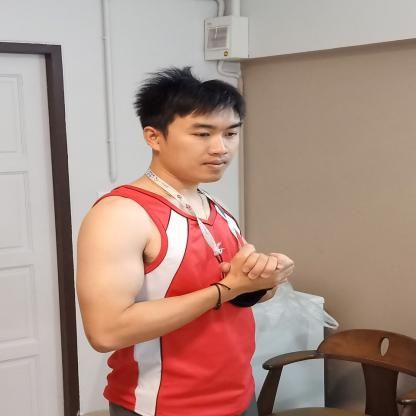Grieve: (186, 233, 362, 320)
